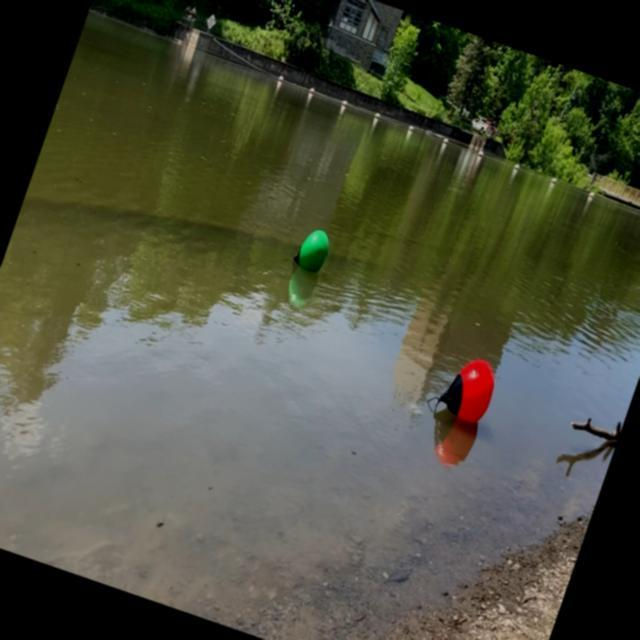buoy: (435, 351, 502, 426), (291, 223, 334, 276)
